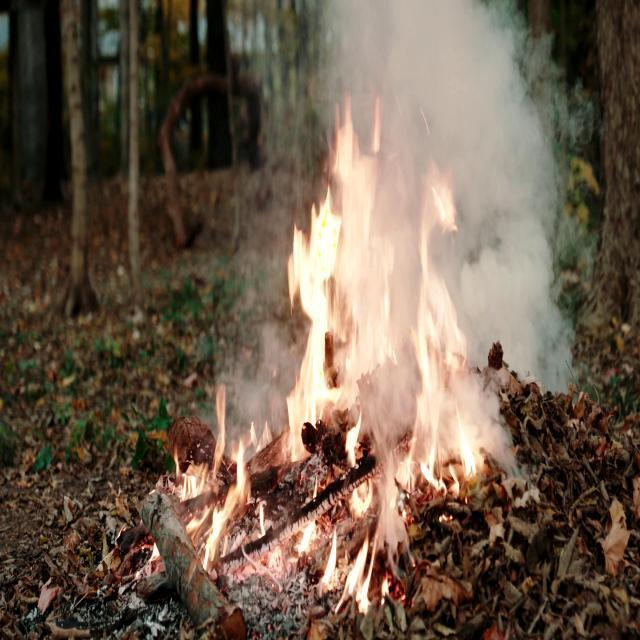Fire: (283, 141, 504, 622), (162, 368, 280, 579)
Smoke: (405, 0, 576, 385)
